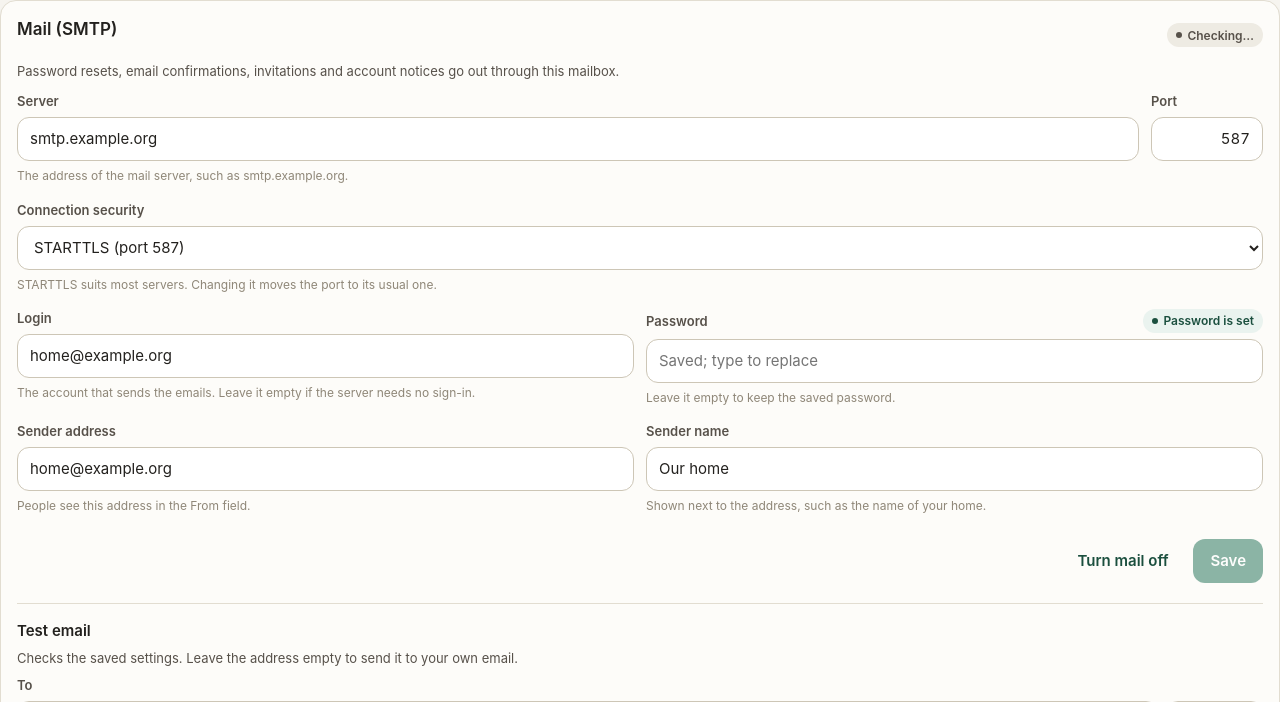
Test: MailboxCard › asks for the password again when the server changes
Type "smtp.elsewhere.org" into the field labelled "Server" at point(578, 139), box [17, 117, 1139, 161]
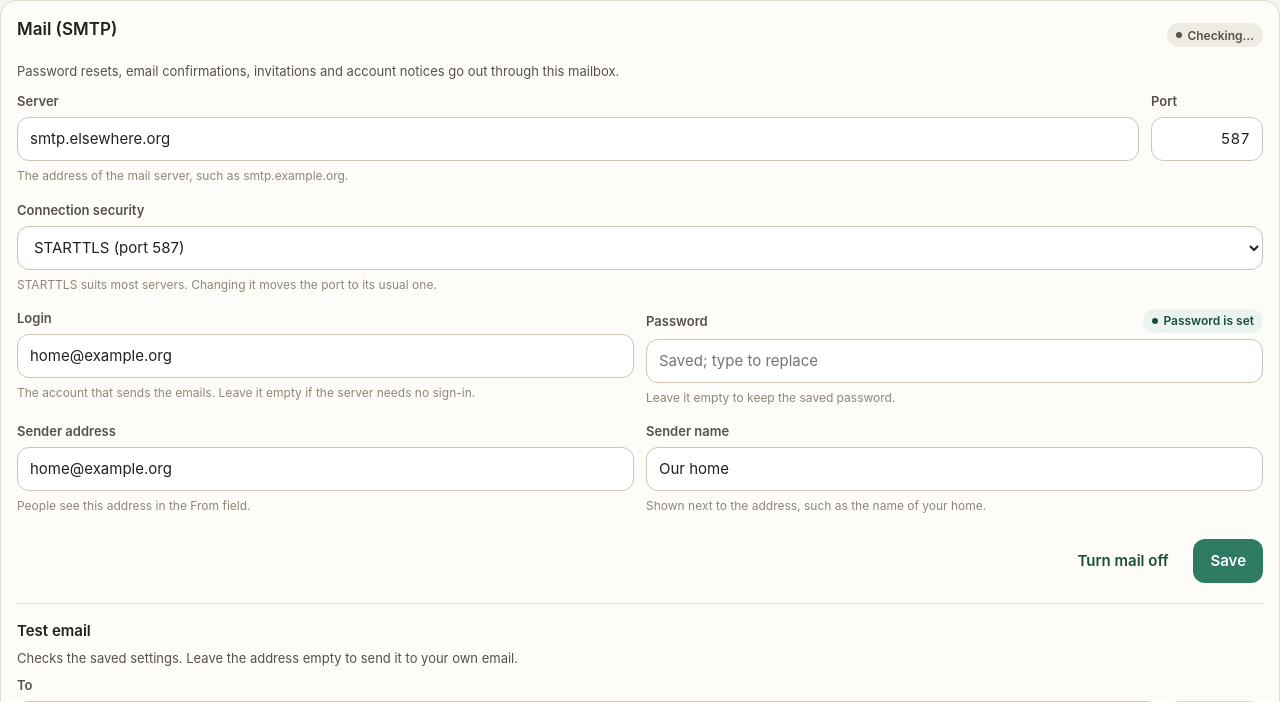
Click the button "Save" at point(1228, 561), box [1194, 539, 1263, 583]
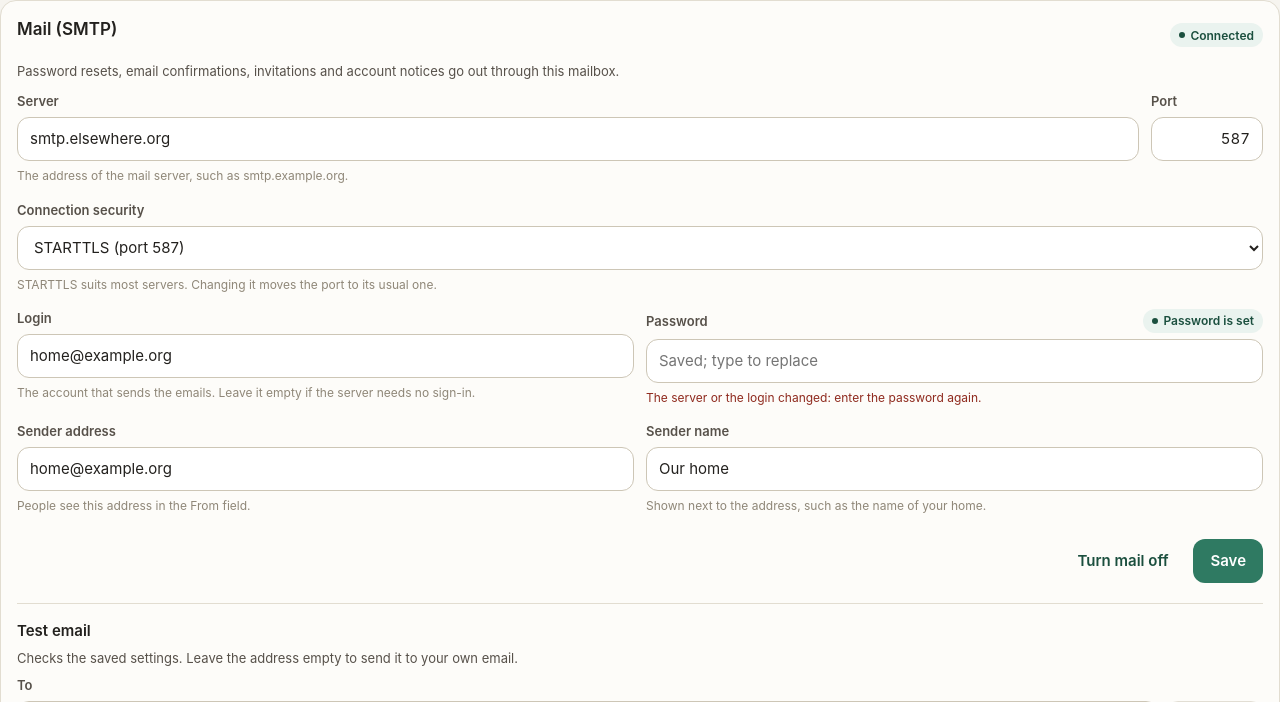
expect the text "The server or the login changed: enter the password again." is shown: met, box [646, 390, 982, 405]
